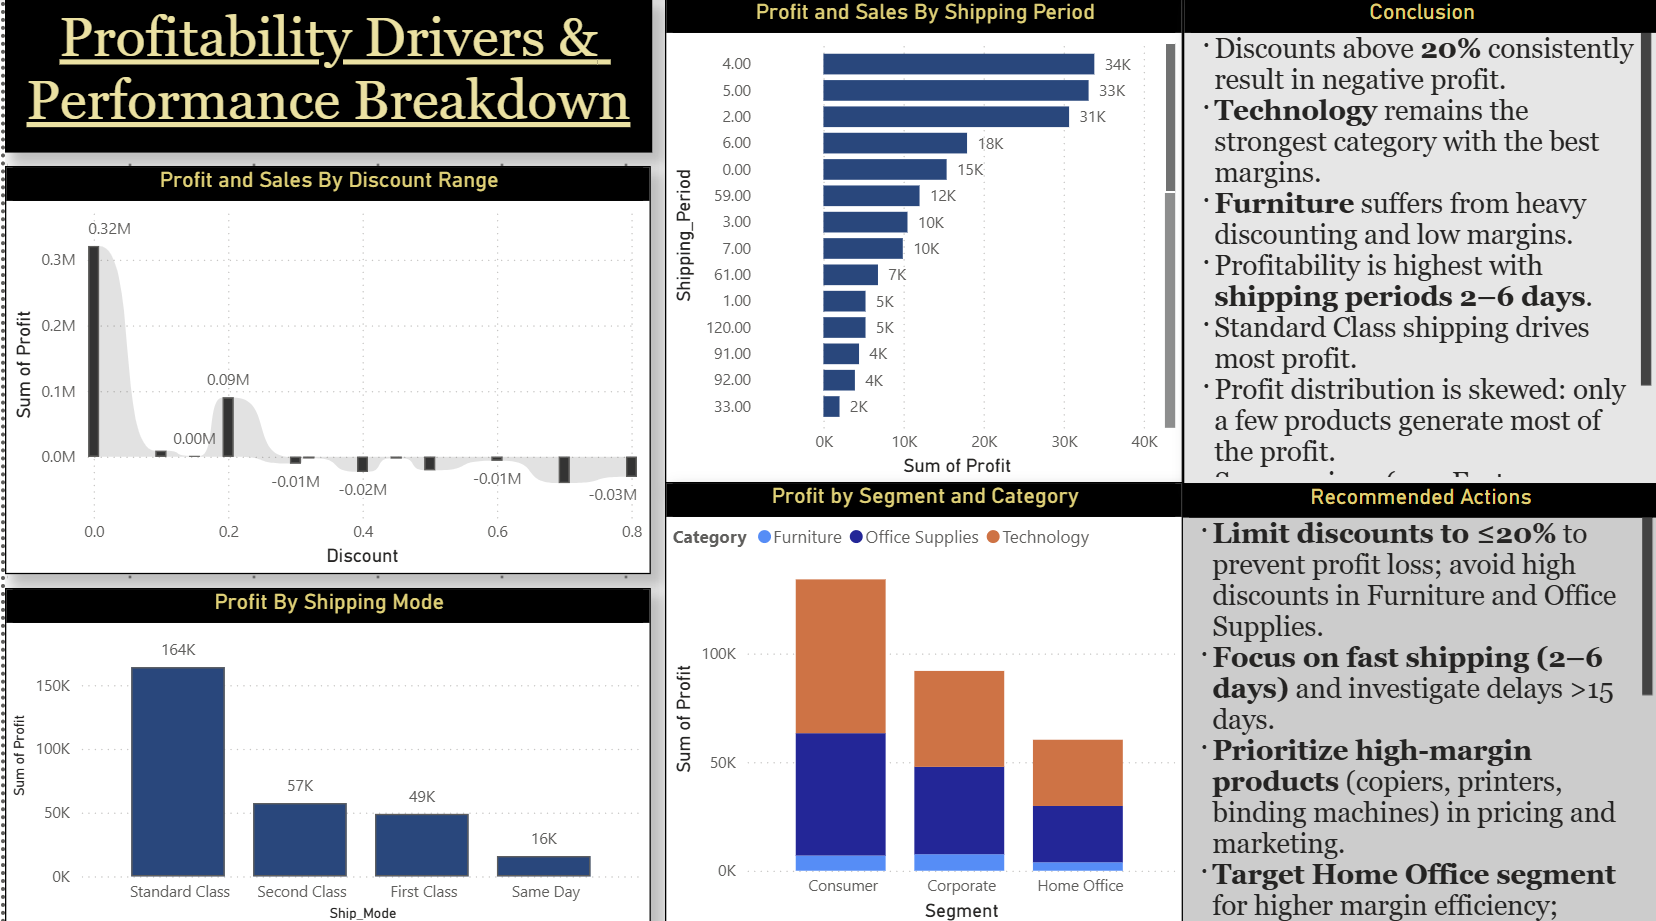

The dashboard page shown, as its layout file describes it:
{"tool":"powerbi","page":{"name":"Details","canvas":[1280,720],"ordinal":1},"visuals":[{"type":"textbox","box":[0,0,500.9,119.7],"z":0},{"type":"columnChart","title":"Profit and Sales By Discount Range","fields":{"Category":["SSS.Discount"],"Y":["Sum(SSS.Profit)"]},"box":[0,130.1,500.1,315.9],"z":1000},{"type":"columnChart","title":"Profit By Shipping Mode","fields":{"Category":["SSS.Ship_Mode"],"Y":["Sum(SSS.Profit)"]},"box":[0,456.8,500.1,263.2],"z":2000},{"type":"barChart","title":"Profit and Sales By Shipping Period","fields":{"Category":["SSS.Shipping_Period"],"Y":["Sum(SSS.Profit)"]},"box":[511,0,401,376.3],"z":3000},{"type":"columnChart","title":"Profit by Segment and Category","fields":{"Category":["SSS.Segment"],"Series":["SSS.Category"],"Y":["Sum(SSS.Profit)"]},"box":[511,374.7,401,345.3],"z":4000},{"type":"textbox","title":"Conclusion","box":[912,0,368.5,376.3],"z":5000},{"type":"textbox","title":"Recommended Actions","box":[912,376.3,368.5,345.3],"z":6000}]}

Visuals, with their boxes in screenshot pixels (x1, y1, x2, y2), scaled from the page's 1280x720 canvas onto the 1656x921 screenshot:
textbox: [0, 0, 648, 153]
"Profit and Sales By Discount Range" columnChart: [0, 166, 647, 571]
"Profit By Shipping Mode" columnChart: [0, 584, 647, 920]
"Profit and Sales By Shipping Period" barChart: [661, 0, 1180, 481]
"Profit by Segment and Category" columnChart: [661, 479, 1180, 920]
"Conclusion" textbox: [1180, 0, 1655, 481]
"Recommended Actions" textbox: [1180, 481, 1655, 920]
